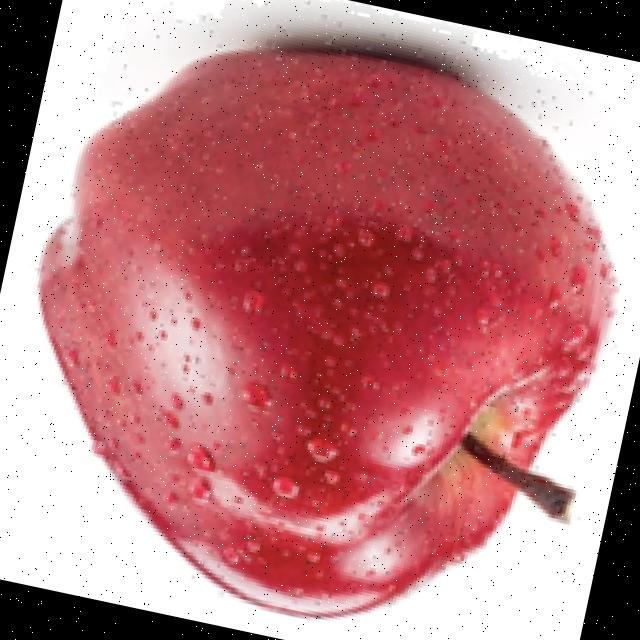apple: (31, 0, 622, 624)
